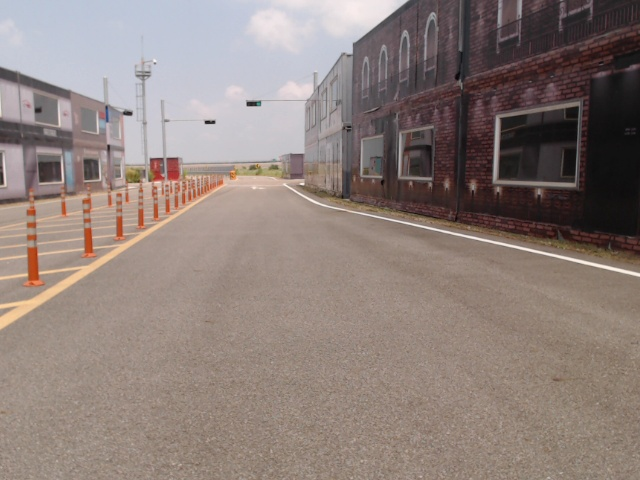green_3: (246, 100, 262, 107)
